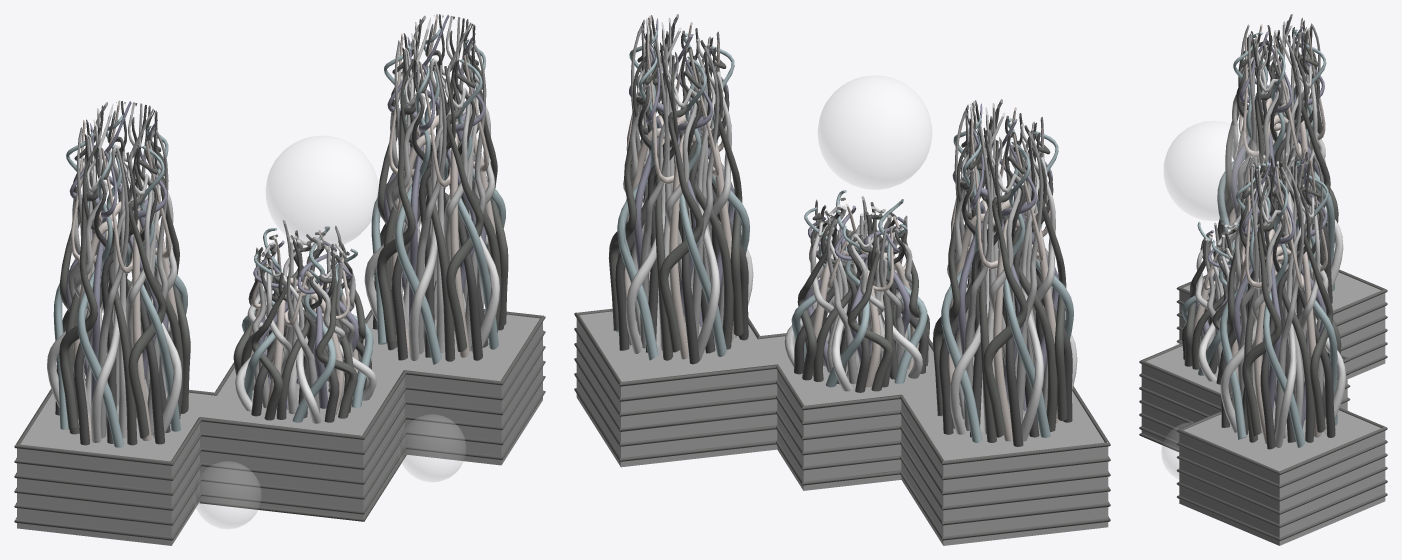
3 renders of one model, left to right at view 1: azimuth 30°, elevation 25°; view 2: azimuth 150°, elevation 25°; view 3: azimuth 270°, elevation 25°, orthographic. The views are drawn at different scales.
Visible parts, largest first — view 1: OG.002; view 2: OG.002; view 3: OG.002.
Boxes of the visible parts, left/top/right/bottom form: OG.002: left=14, top=14, right=545, bottom=545; OG.002: left=574, top=14, right=1110, bottom=545; OG.002: left=1139, top=14, right=1387, bottom=545.
Bounding box in the file's own units: 7.45 × 5.34 × 3.41.
Materials: 2 (1 with a texture image).
